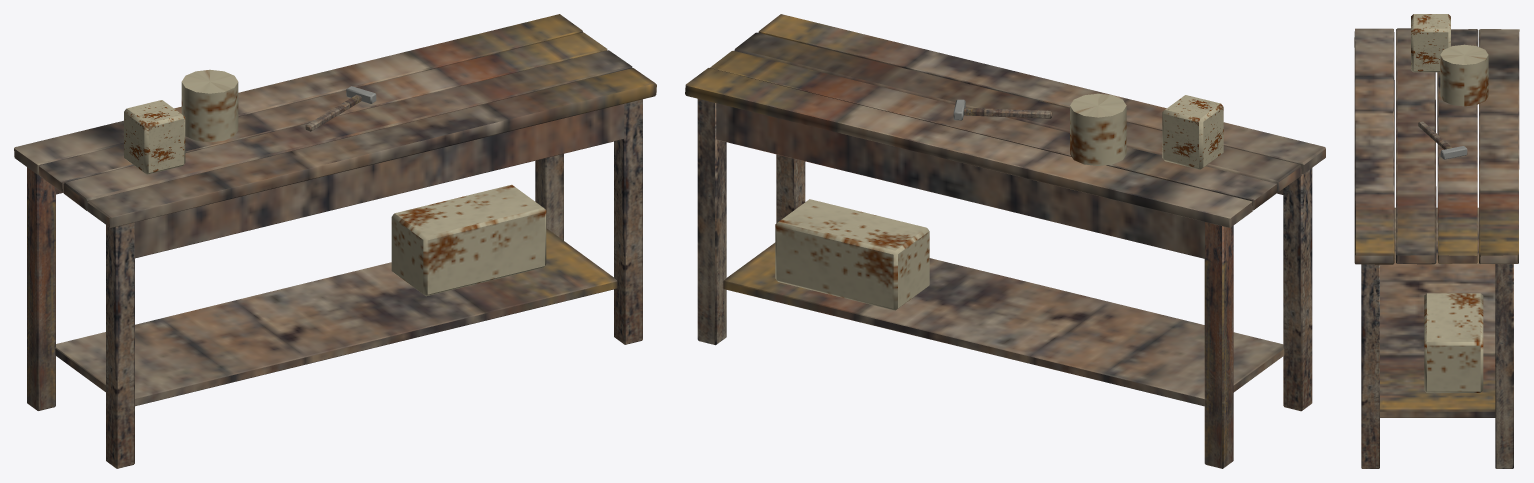
Rendered from Workbench.fbx.
3 views of the same model, side by side, from view 1: azimuth 30°, elevation 25°; view 2: azimuth 150°, elevation 25°; view 3: azimuth 270°, elevation 25° (orthographic). The views are drawn at different scales.
Parts seen in each view (by area): view 1: Workbench; view 2: Workbench; view 3: Workbench.
Part boxes in pixels (<box>): Workbench: <box>14,14,656,468</box>; Workbench: <box>685,14,1325,468</box>; Workbench: <box>1354,14,1519,468</box>.
Size of the model in its own units: 2 by 1.08 by 0.6157.
